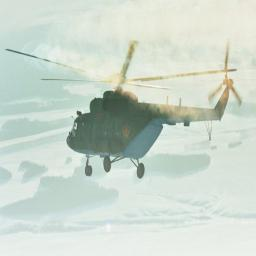helicopter: (6, 41, 245, 179)
